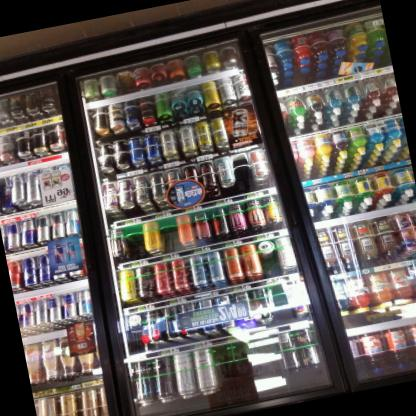empty_space: (248, 334, 289, 400), (210, 343, 242, 407), (230, 340, 259, 404), (266, 283, 294, 326), (230, 152, 254, 194)
